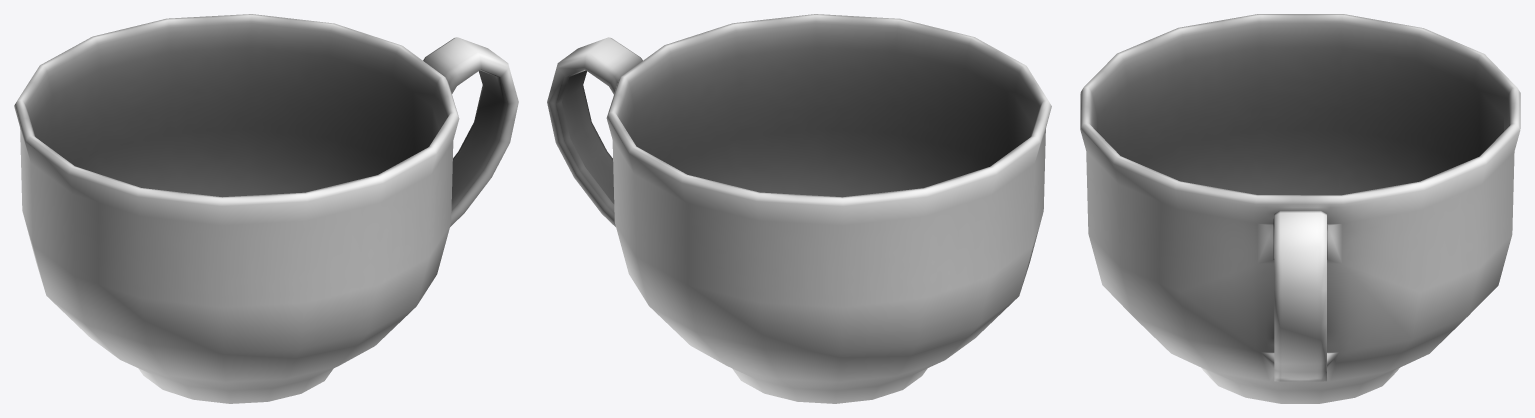
The model's file is Teacup.fbx.
3 renders of one model, left to right at view 1: azimuth 30°, elevation 25°; view 2: azimuth 150°, elevation 25°; view 3: azimuth 270°, elevation 25°, orthographic.
Visible parts, largest first — view 1: pasted__Teacup_LOD0; view 2: pasted__Teacup_LOD0; view 3: pasted__Teacup_LOD0.
Part boxes in pixels (bbox=[...]): pasted__Teacup_LOD0: bbox=[14, 14, 518, 403]; pasted__Teacup_LOD0: bbox=[547, 14, 1051, 403]; pasted__Teacup_LOD0: bbox=[1080, 14, 1520, 403].
Bounding box in the file's own units: 11.04 × 5.98 × 9.08.
